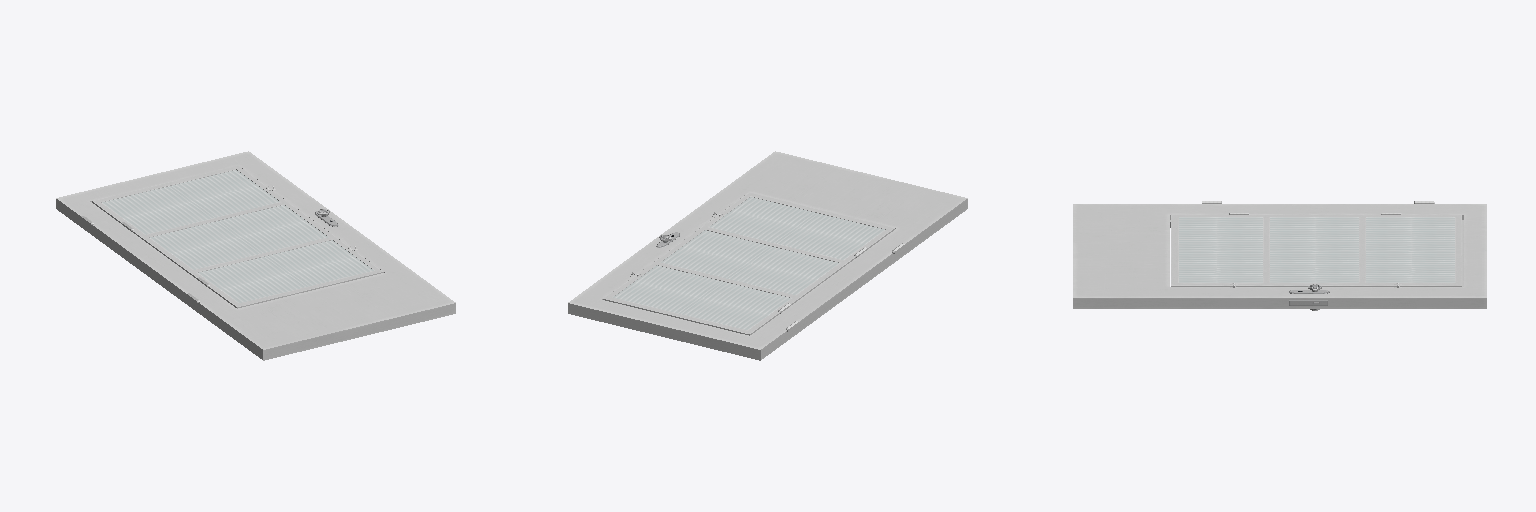
3 views of the same model, side by side, from view 1: azimuth 30°, elevation 25°; view 2: azimuth 150°, elevation 25°; view 3: azimuth 270°, elevation 25° (orthographic).
Visible parts, largest first — view 1: porta_Cube.002, vidro_Cube.000, grade_Cube.001; view 2: porta_Cube.002, vidro_Cube.000, grade_Cube.001; view 3: porta_Cube.002, vidro_Cube.000, grade_Cube.001, coisas_Cube.003.
Part boxes in pixels (bbox=[...]): porta_Cube.002: bbox=[56, 151, 455, 360]; vidro_Cube.000: bbox=[102, 170, 373, 302]; grade_Cube.001: bbox=[92, 165, 383, 308]; porta_Cube.002: bbox=[568, 151, 967, 360]; vidro_Cube.000: bbox=[613, 197, 884, 329]; grade_Cube.001: bbox=[603, 192, 894, 335]; porta_Cube.002: bbox=[1073, 204, 1486, 308]; vidro_Cube.000: bbox=[1179, 217, 1454, 282]; grade_Cube.001: bbox=[1171, 214, 1461, 286]; coisas_Cube.003: bbox=[1202, 201, 1434, 310].
Bounding box in the file's own units: 10.44 × 1.22 × 19.14.
Materials: 2 (2 with a texture image).